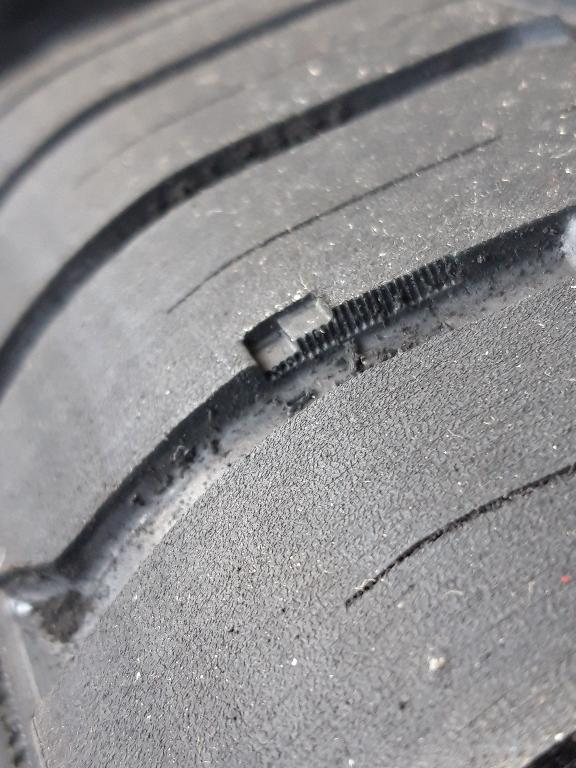temoin:25: (233, 283, 349, 389)
